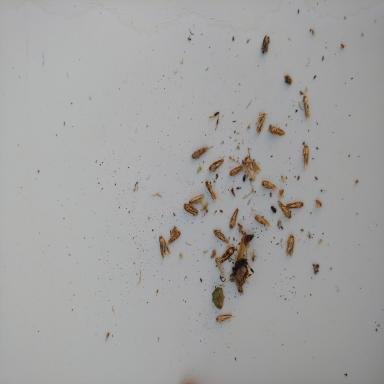pbw: (244, 156, 260, 180), (204, 180, 222, 201), (301, 94, 313, 124), (188, 194, 207, 210), (166, 226, 181, 245), (219, 246, 235, 263), (158, 235, 169, 259), (277, 200, 291, 218), (255, 113, 266, 135), (208, 158, 224, 173), (191, 146, 208, 160), (213, 229, 230, 243), (254, 215, 273, 227), (229, 207, 238, 231), (215, 257, 225, 277), (302, 144, 310, 169), (183, 203, 198, 216), (228, 164, 244, 176), (286, 234, 294, 257), (216, 314, 236, 322), (262, 180, 276, 191), (286, 201, 304, 209), (269, 127, 285, 135)
